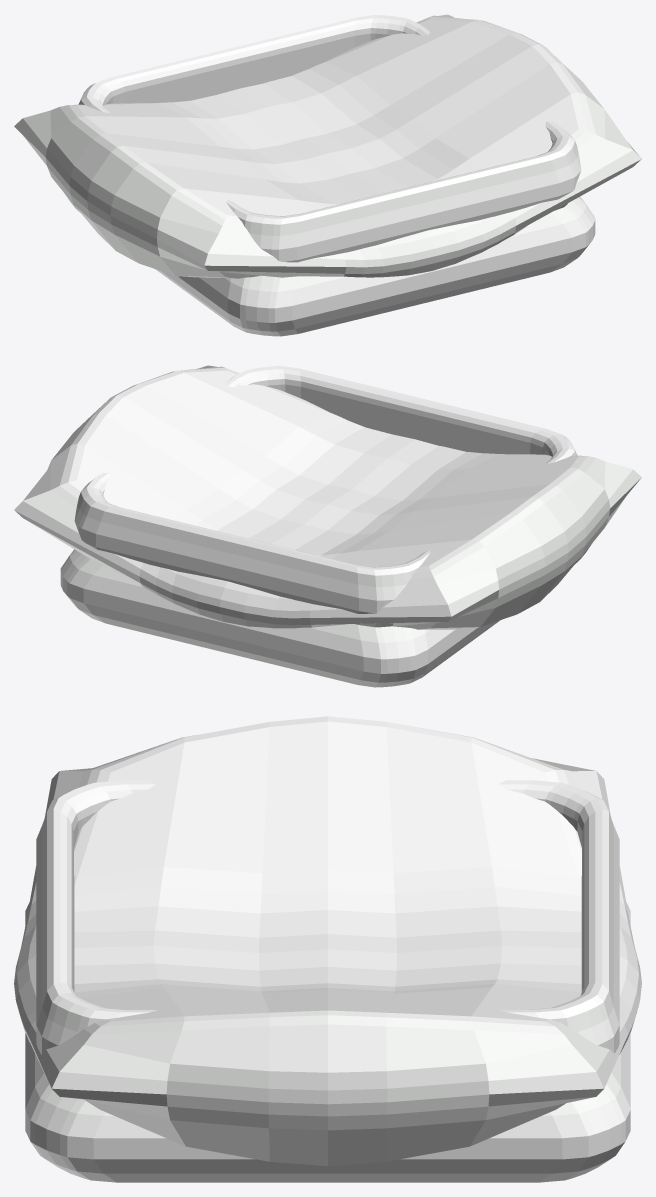
Rendered from humanchain_finalpuff.fbx.
The picture shows the model from 3 angles, top to bottom: view 1: azimuth 30°, elevation 25°; view 2: azimuth 150°, elevation 25°; view 3: azimuth 270°, elevation 25°; orthographic projection. The views are drawn at different scales.
Visible parts, largest first — view 1: humanchain_pillow, humanchain_pool; view 2: humanchain_pillow, humanchain_pool; view 3: humanchain_pillow, humanchain_pool.
Part boxes in pixels (box(x1,y1,x2,y2)): humanchain_pillow: box(14, 14, 641, 278); humanchain_pool: box(64, 15, 595, 336); humanchain_pillow: box(14, 365, 641, 629); humanchain_pool: box(60, 366, 591, 687); humanchain_pillow: box(14, 716, 641, 1166); humanchain_pool: box(25, 780, 630, 1182).
Size of the model in its own units: 9.85 by 2.68 by 7.67.
